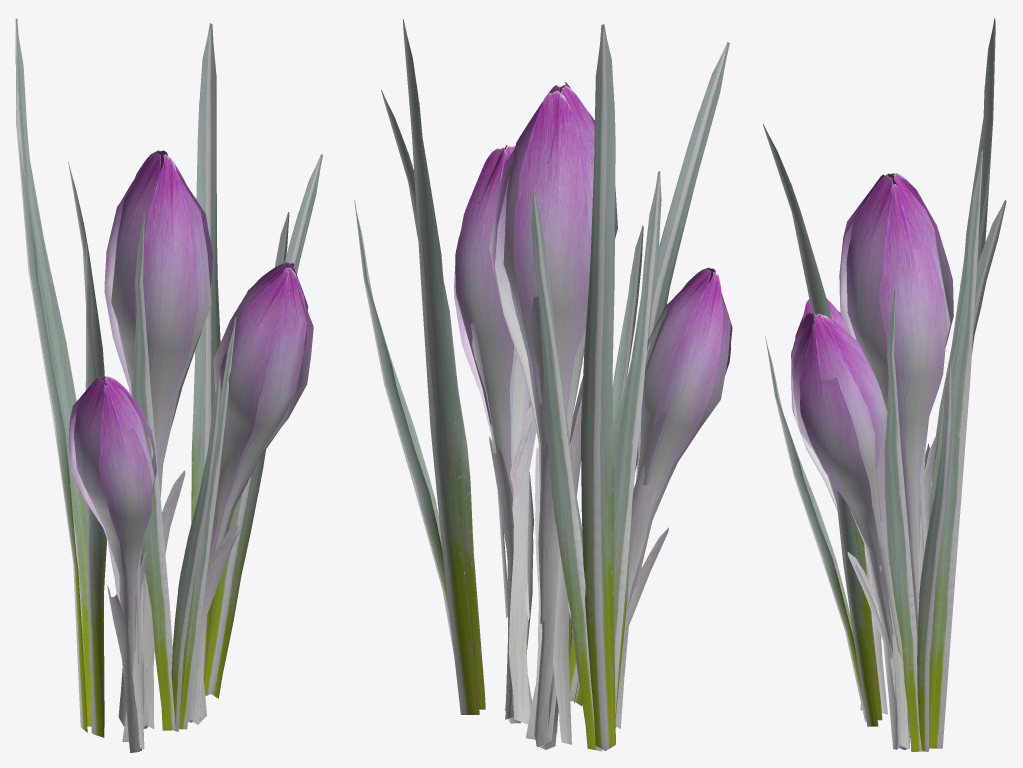
The model's file is flower_crocus.glb.
The picture shows the model from 3 angles, left to right: view 1: azimuth 30°, elevation 25°; view 2: azimuth 150°, elevation 25°; view 3: azimuth 270°, elevation 25°; orthographic projection. The views are drawn at different scales.
Visible parts, largest first — view 1: bq_Flower_Crocus-vernus_B_spring-summer; view 2: bq_Flower_Crocus-vernus_B_spring-summer; view 3: bq_Flower_Crocus-vernus_B_spring-summer.
Part boxes in pixels (x1=…): bq_Flower_Crocus-vernus_B_spring-summer: x1=15, y1=18, x2=322, y2=752; bq_Flower_Crocus-vernus_B_spring-summer: x1=354, y1=19, x2=732, y2=751; bq_Flower_Crocus-vernus_B_spring-summer: x1=763, y1=18, x2=1006, y2=751.
Bounding box in the file's own units: 0.0552 × 0.1317 × 0.0434.
Materials: 2 (2 with a texture image).
